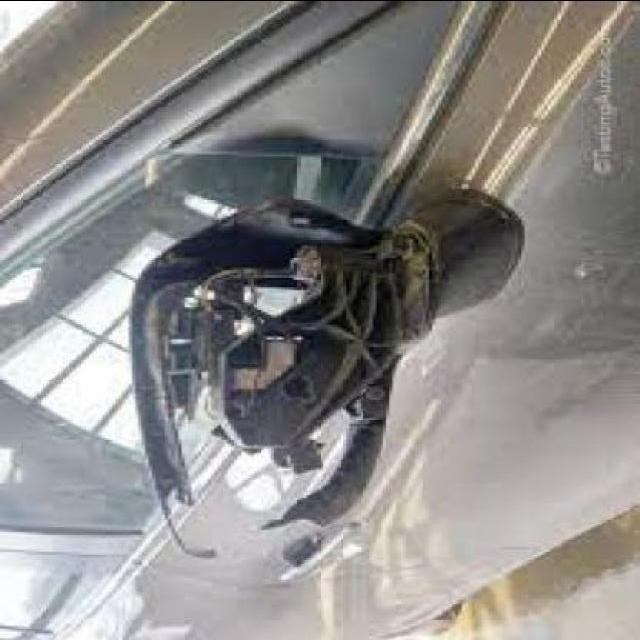Sidemirror-Damage: (152, 197, 406, 560)
